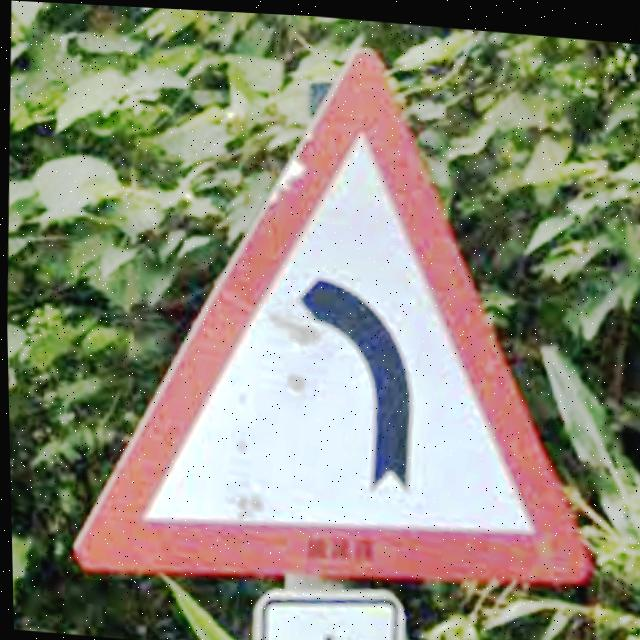leftbend: (69, 46, 591, 581)
